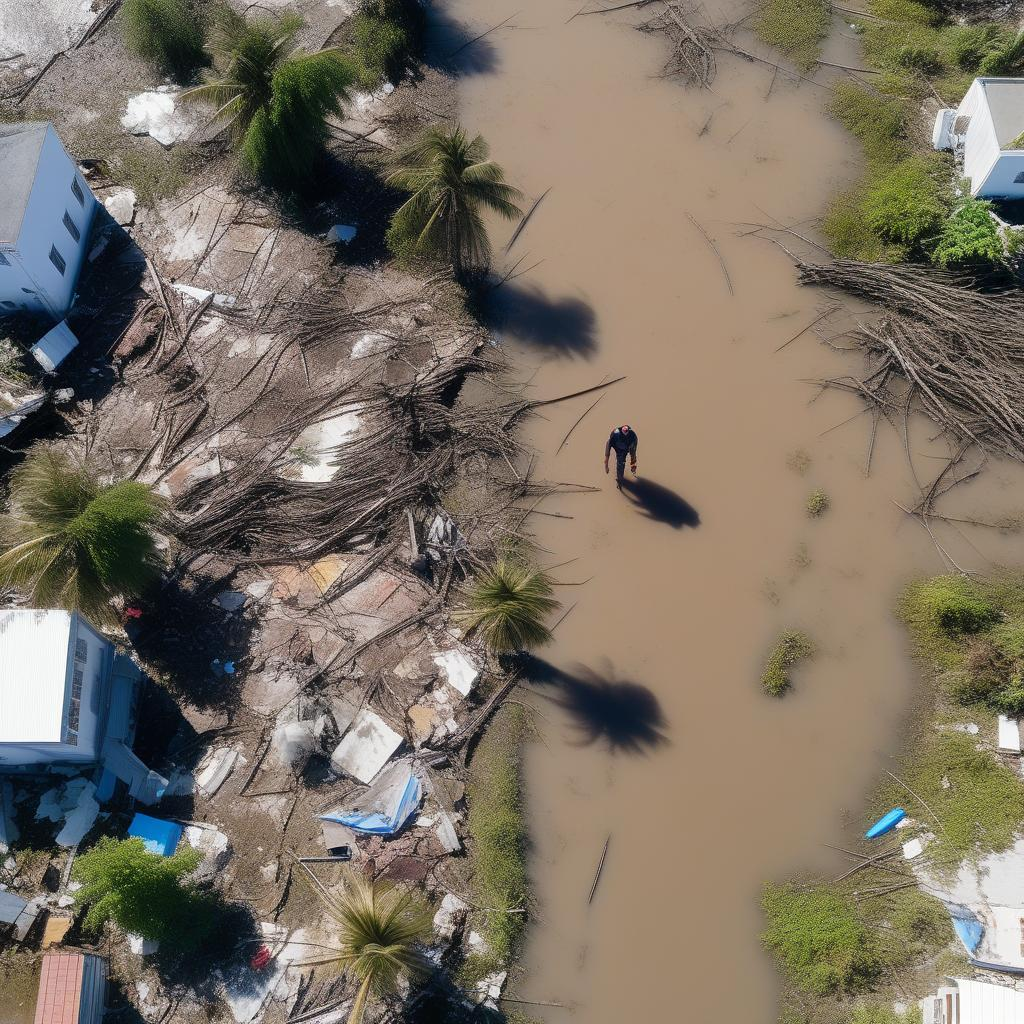victim: (598, 416, 654, 493)
